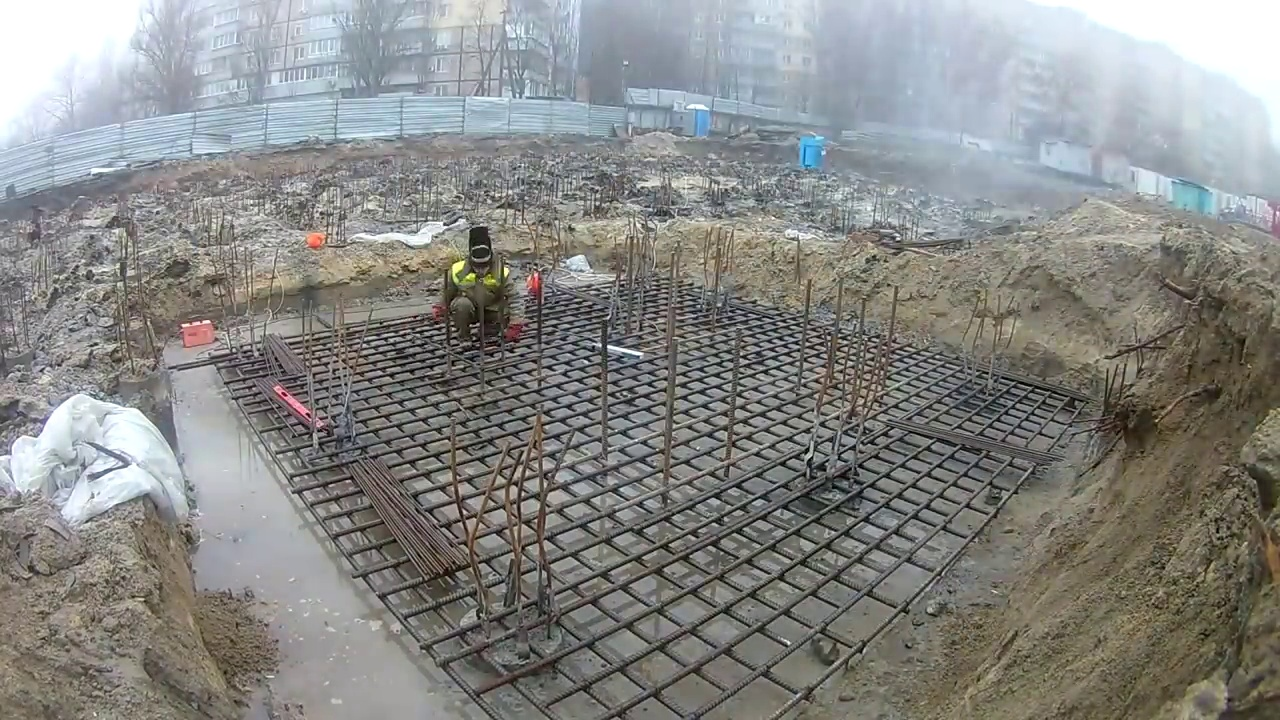helmet: (526, 268, 541, 299), (304, 233, 325, 250)
helmet-off: (463, 225, 498, 284)
person: (431, 224, 524, 357)
